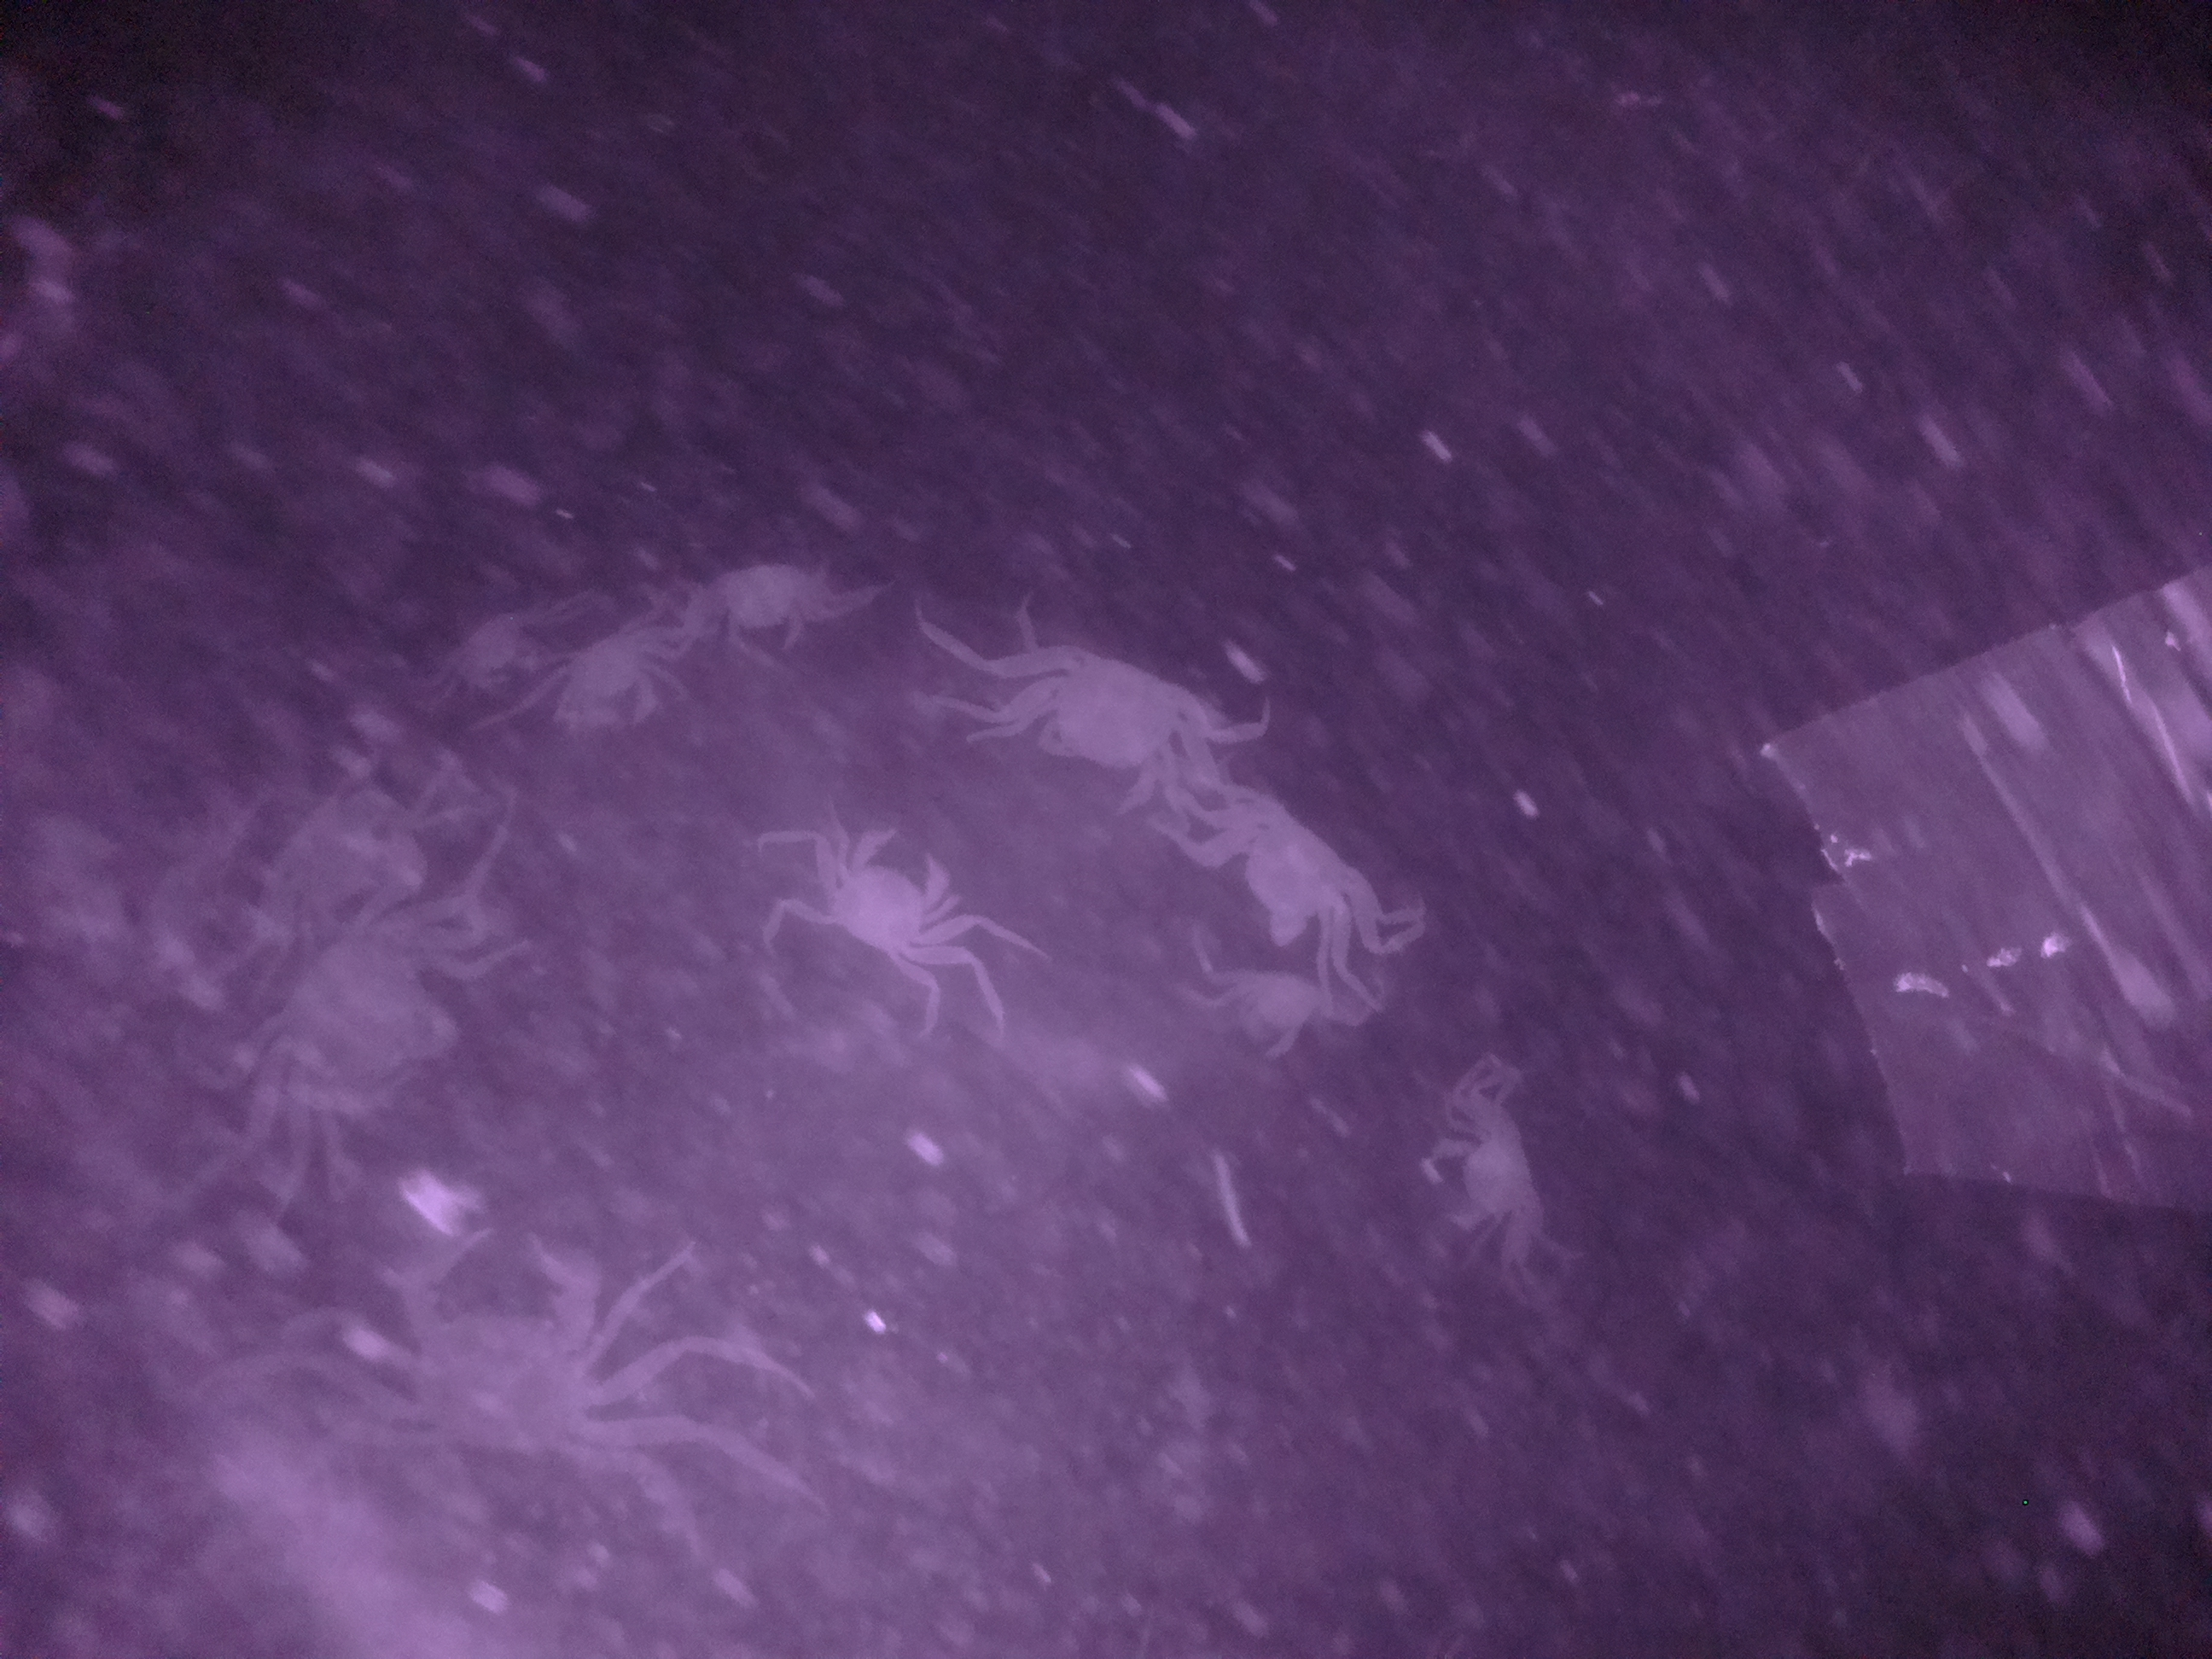Crab: (1001, 641, 1242, 809), (801, 819, 963, 957)
